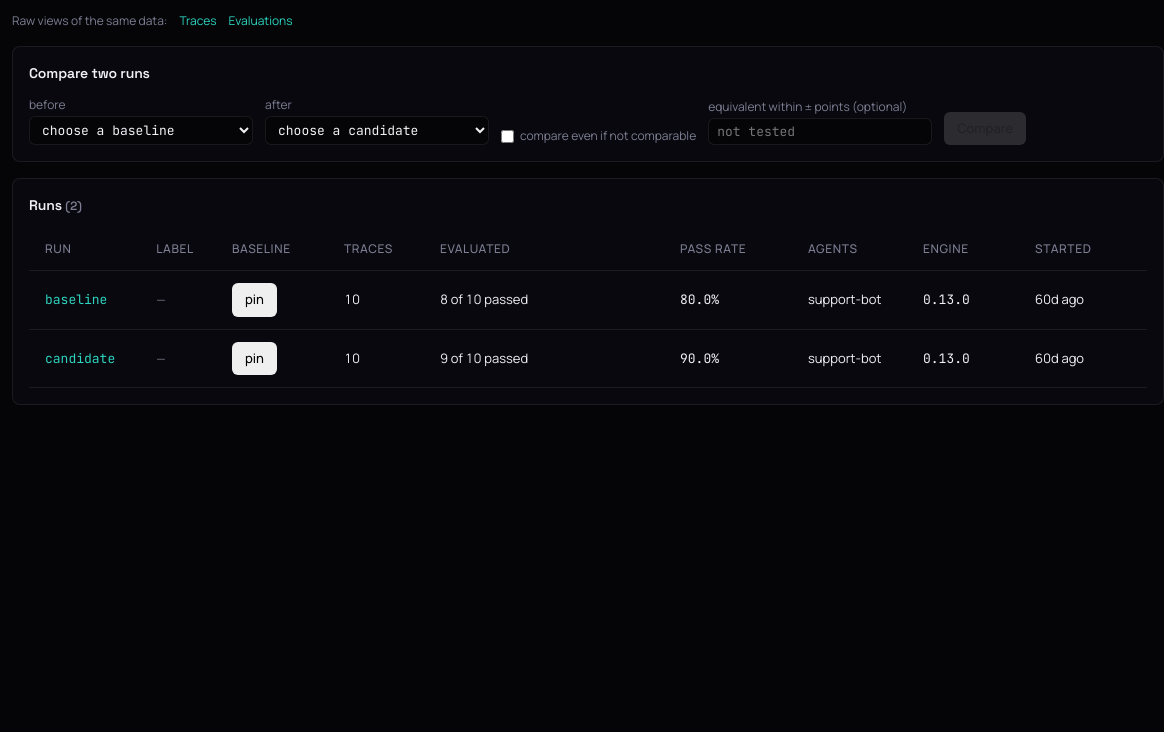
Test: RunsPage › compare: the reader chooses the margin: empty sends none, and a number is sent as a share of pass rate
Select "baseline" in the dropdown labelled "before" at [141, 130], box [29,116,253,145]
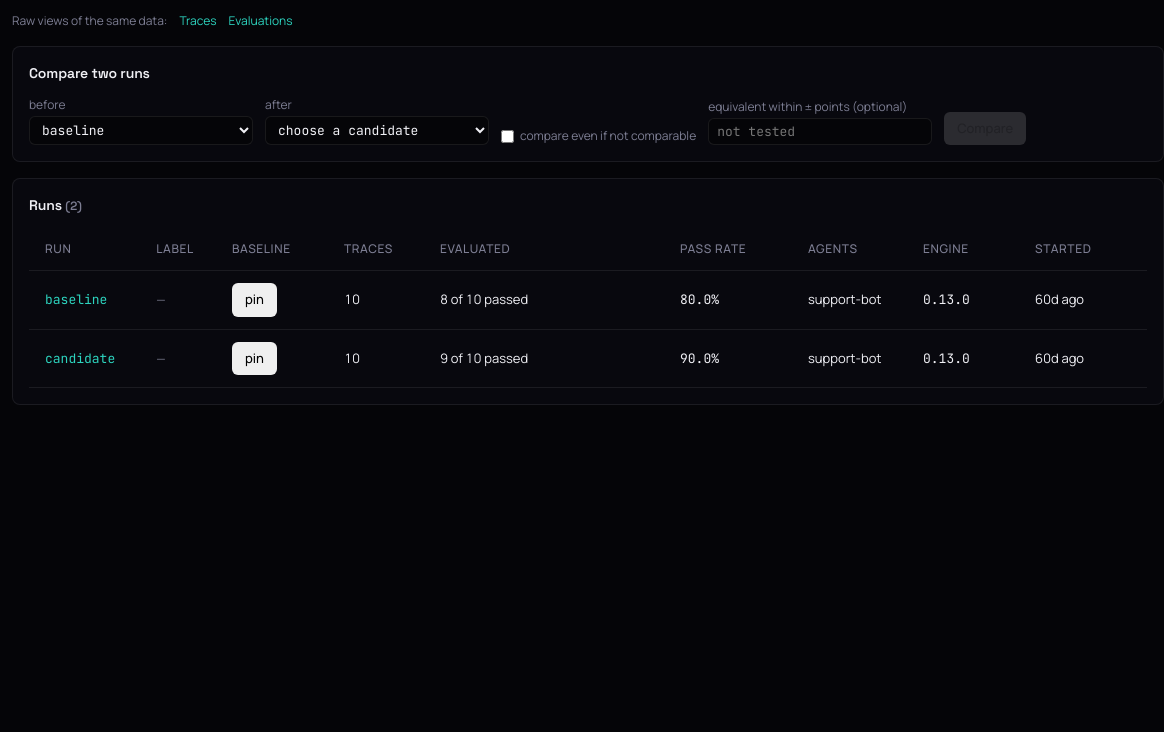
Select "candidate" in the dropdown labelled "after" at [377, 130], box [265,116,489,145]
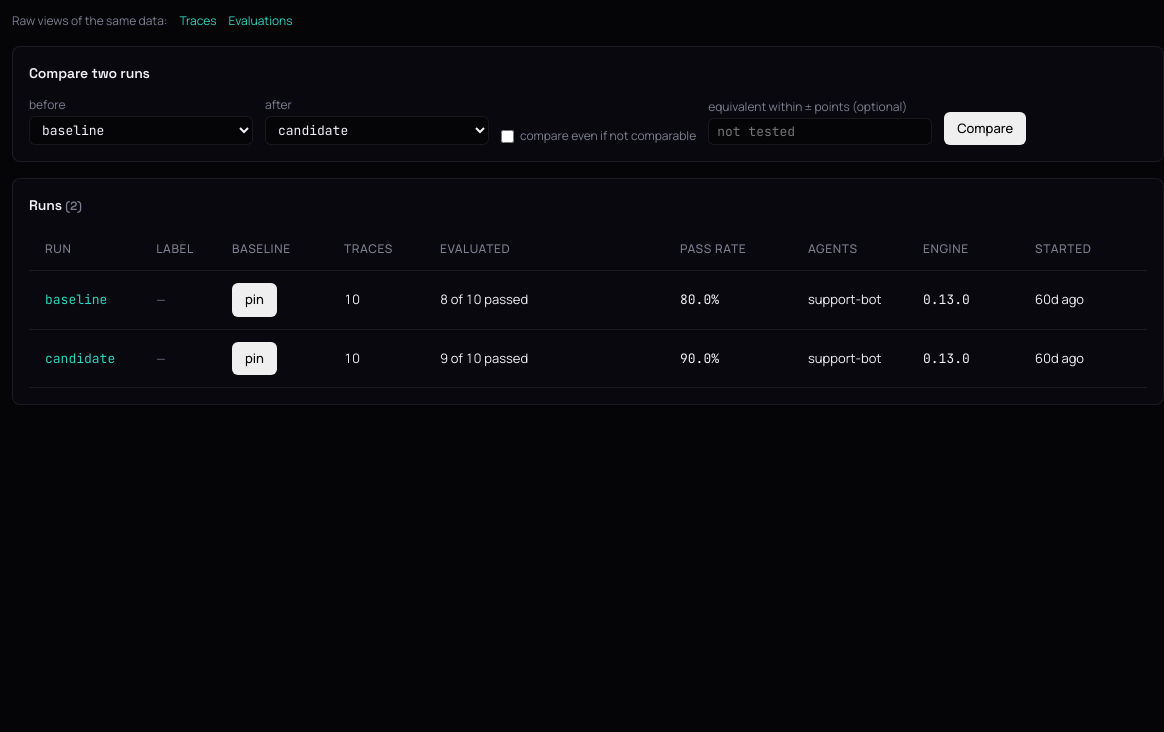
Click the button "Compare" at [985, 128], box [944,112,1026,145]
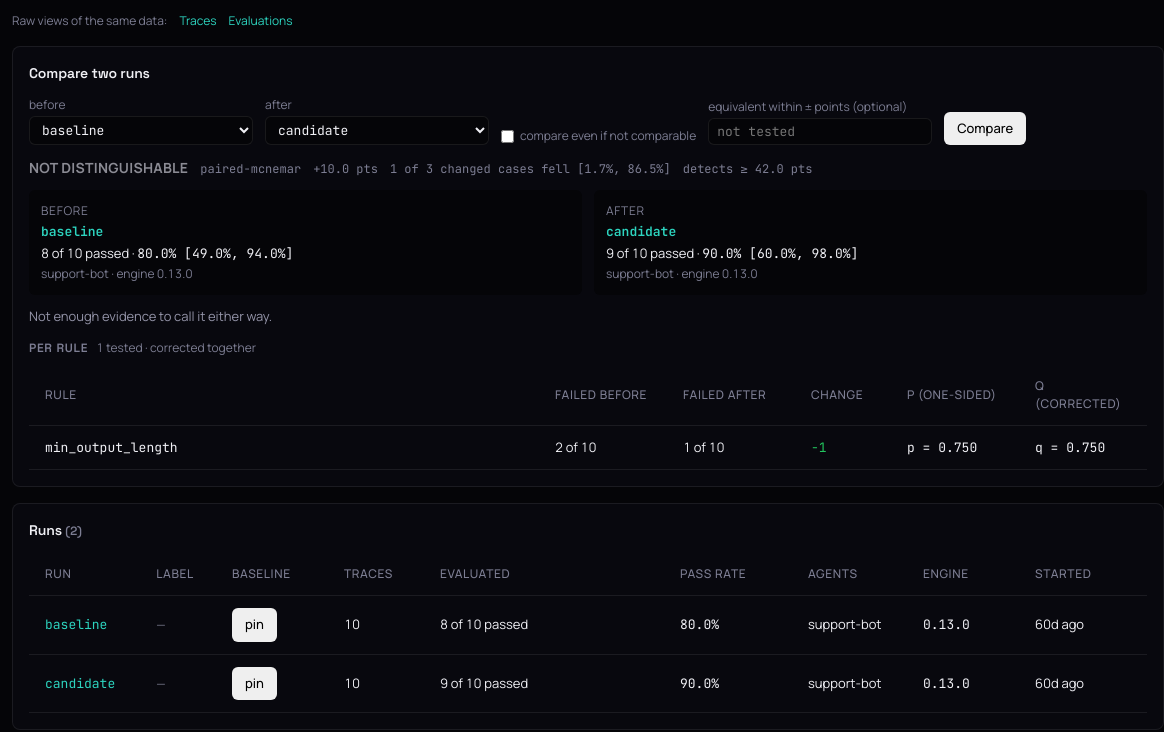
Type "5" into the number field labelled "equivalent within ± points (optional)" at [820, 132], box [708,118,932,145]
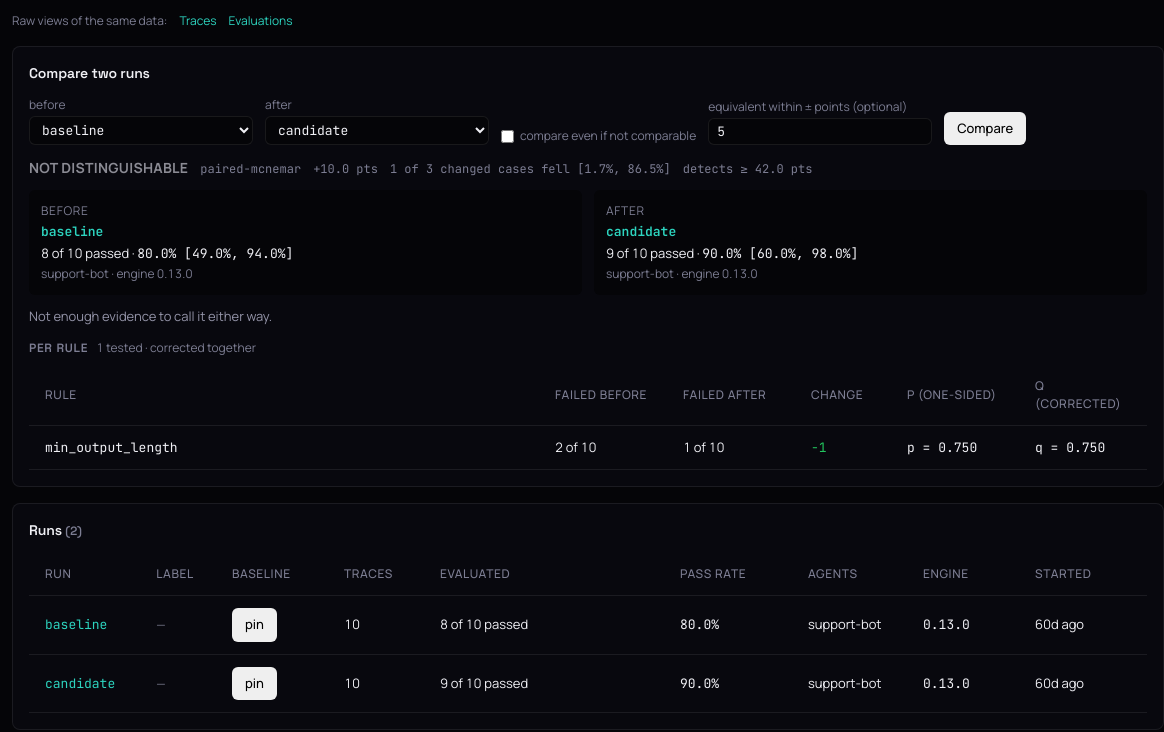
Click the button "Compare" at [985, 128], box [944,112,1026,145]
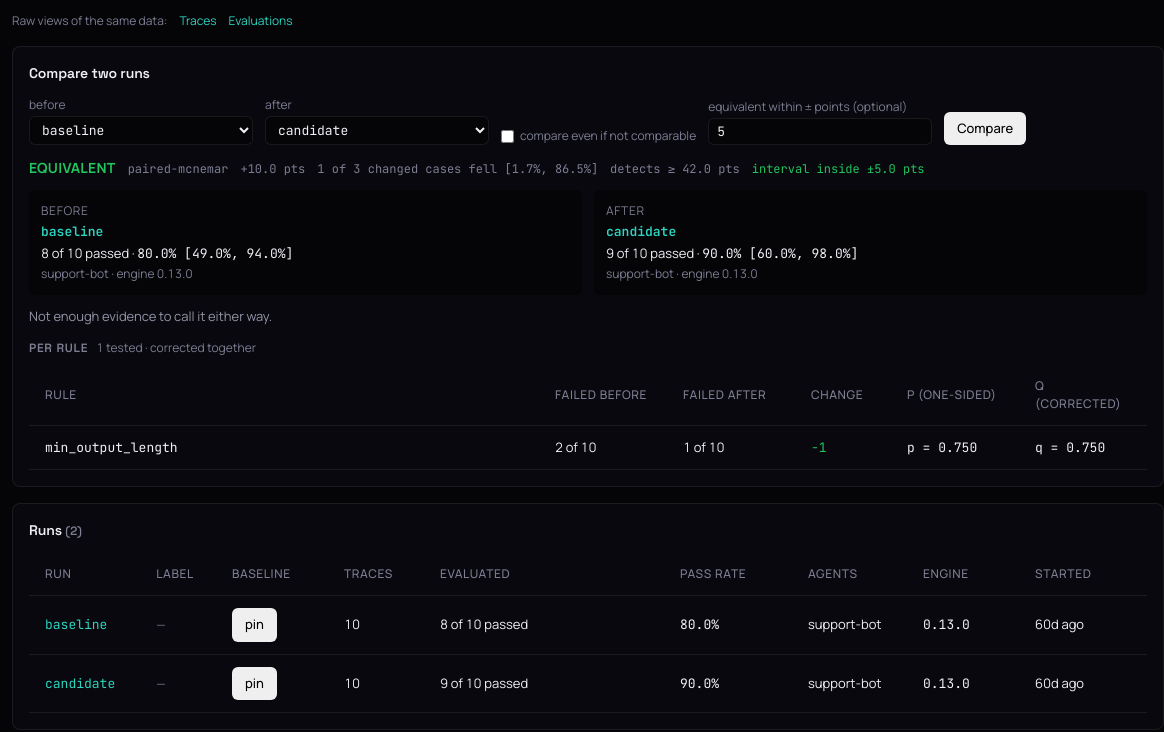
Expected: the text "EQUIVALENT" is shown, [29,157,116,178]
Expected: the text "interval inside ±5.0 pts" is shown, [752,160,924,178]
